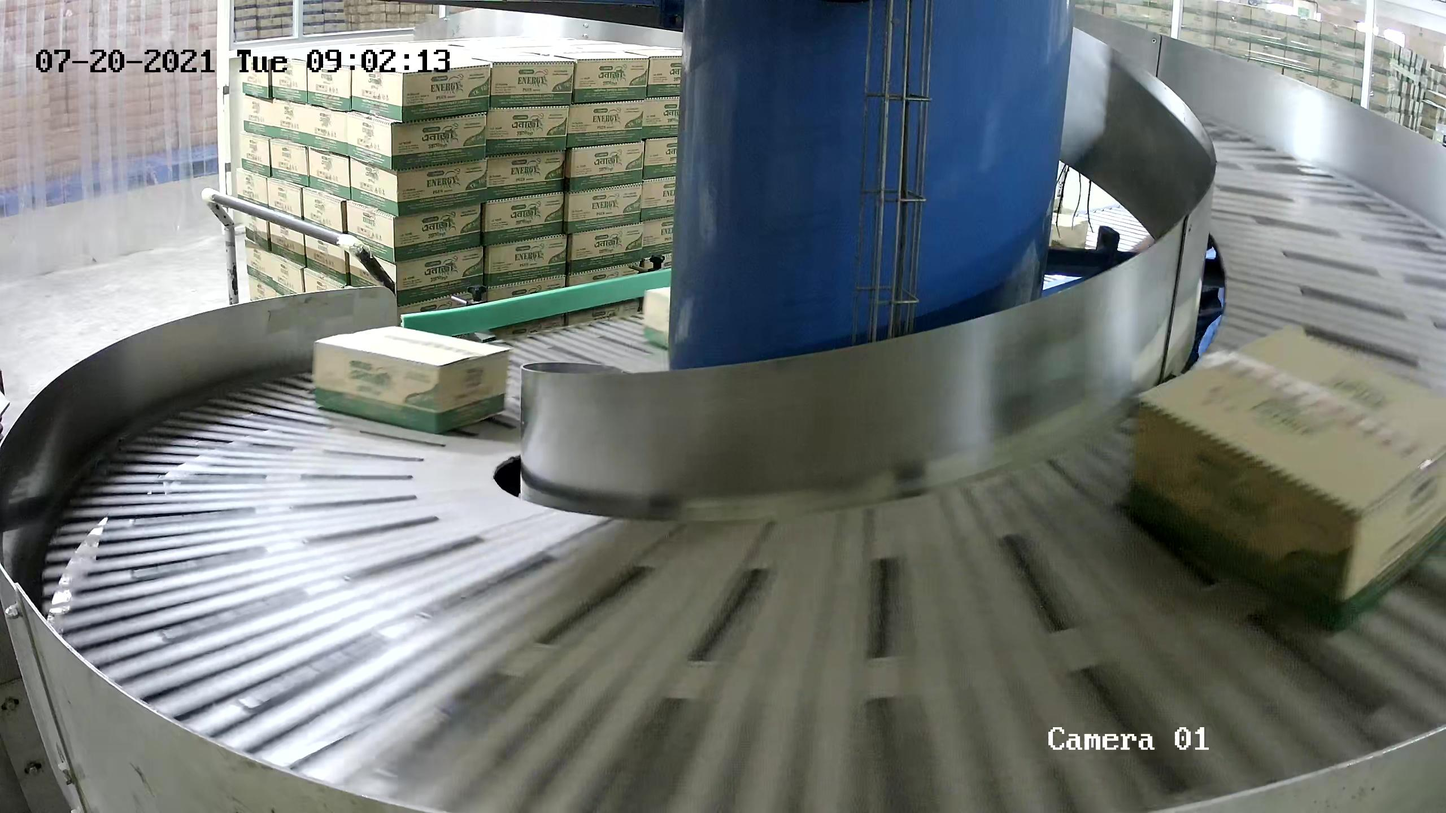Box: (1122, 321, 1446, 635), (311, 325, 513, 435), (642, 285, 671, 349)
